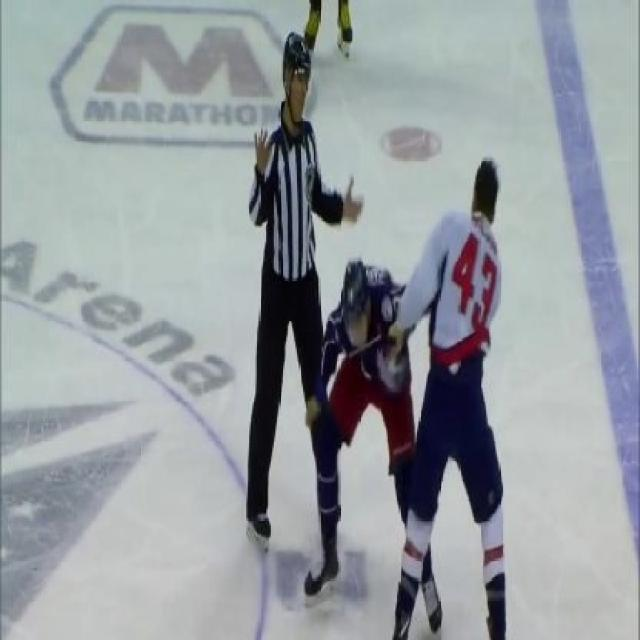fight: (285, 143, 523, 639)
non-fight: (228, 23, 363, 537)
